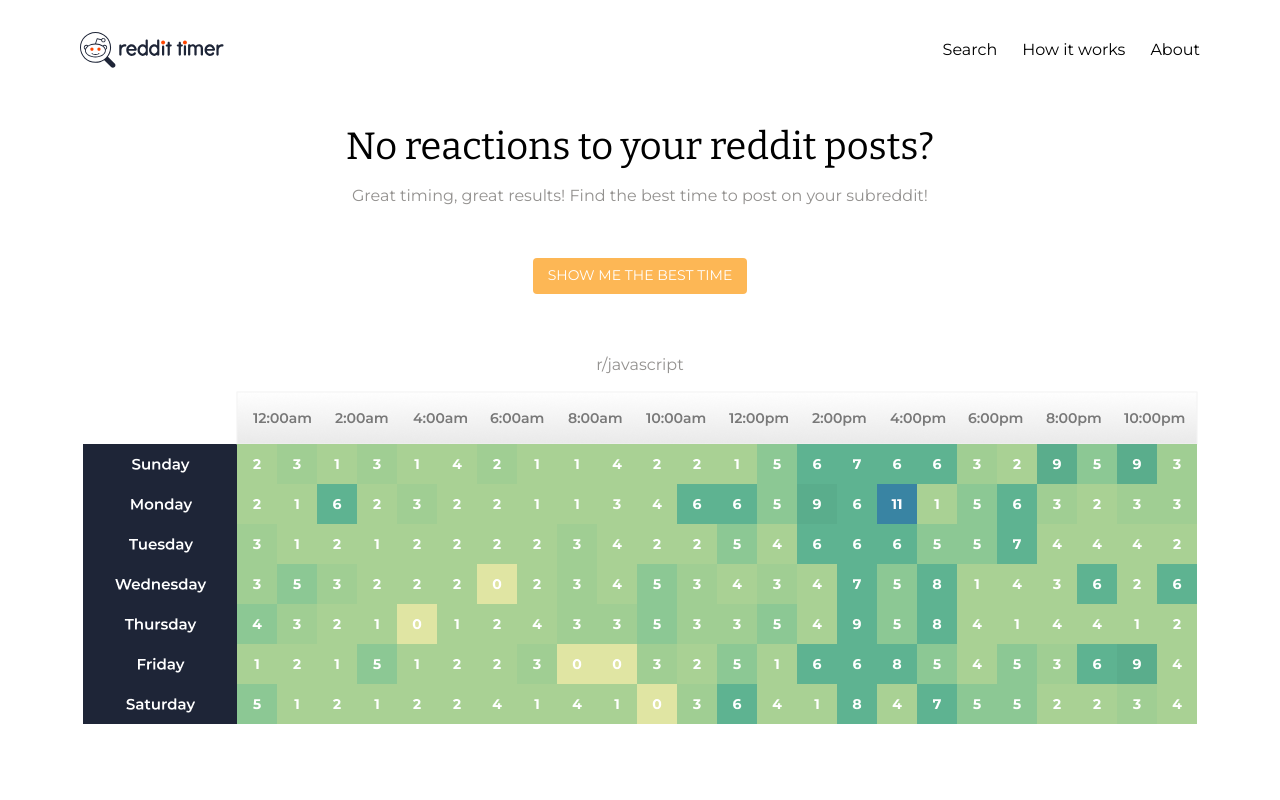
it: Header › "Search" link points to the correct page
The image size is (1280, 800).
Click the link "Search". click: (970, 50)
box: x1=943 y1=41 x2=997 y2=59
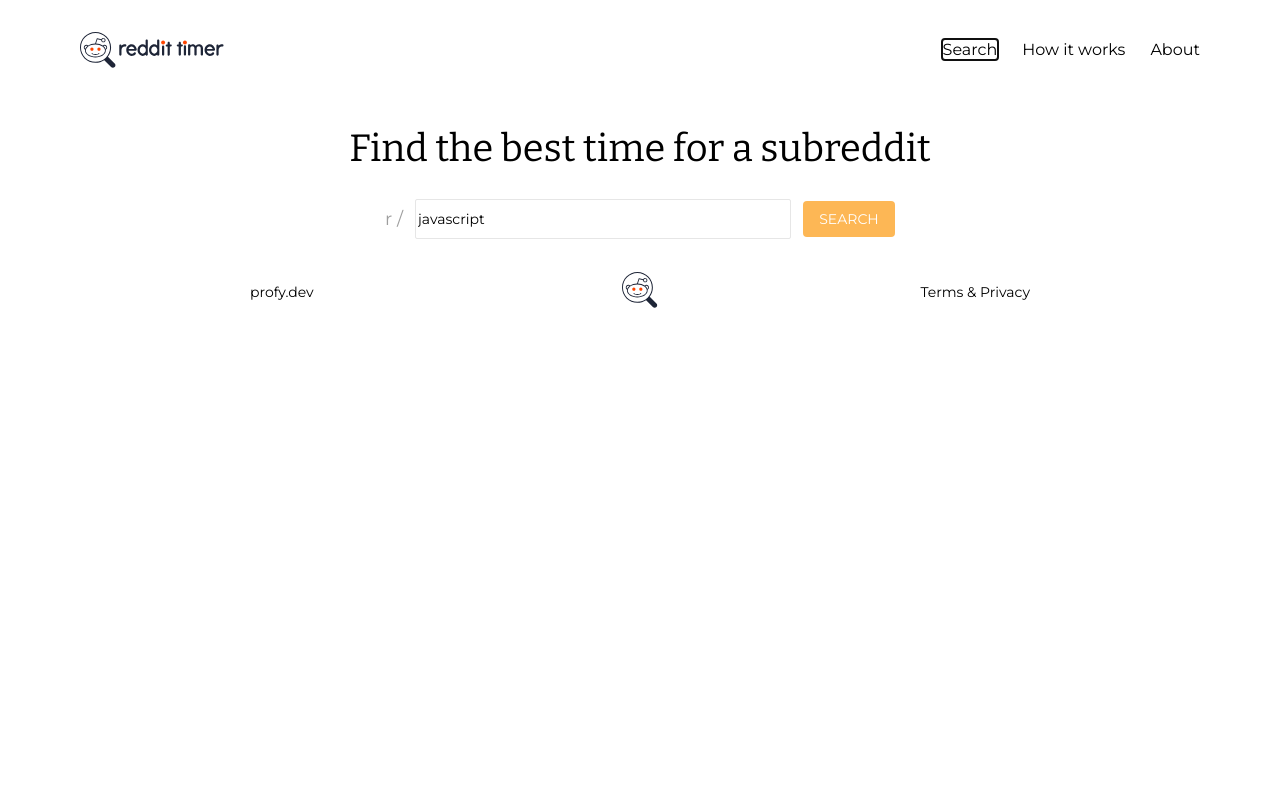
expect the heading "Find the best time for a subreddit" is shown: met, box x1=349 y1=126 x2=931 y2=172
